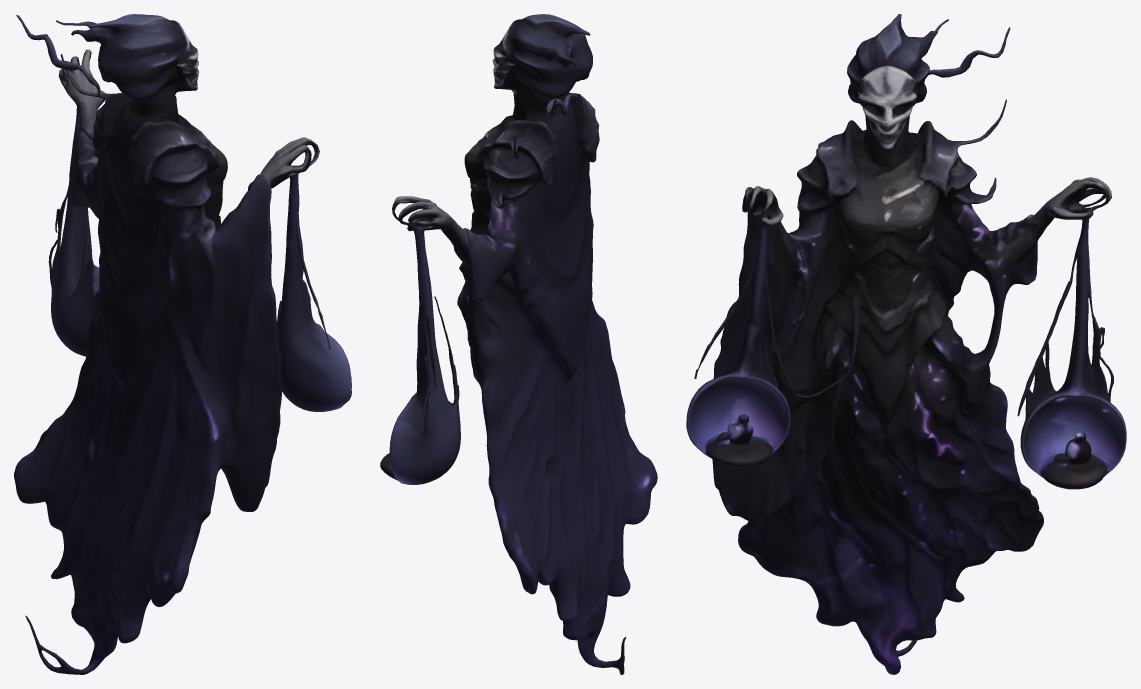
Rendered from dream-thief.glb.
3 renders of one model, left to right at view 1: azimuth 30°, elevation 25°; view 2: azimuth 150°, elevation 25°; view 3: azimuth 270°, elevation 25°, orthographic. The views are drawn at different scales.
Visible parts, largest first — view 1: tripo_node_b17d3d4b-95b3-4d00-a5e4-143c5a767c49; view 2: tripo_node_b17d3d4b-95b3-4d00-a5e4-143c5a767c49; view 3: tripo_node_b17d3d4b-95b3-4d00-a5e4-143c5a767c49.
Boxes of the visible parts, box(x1,y1,x2,y2) form: tripo_node_b17d3d4b-95b3-4d00-a5e4-143c5a767c49: box(14, 14, 351, 674); tripo_node_b17d3d4b-95b3-4d00-a5e4-143c5a767c49: box(380, 14, 657, 674); tripo_node_b17d3d4b-95b3-4d00-a5e4-143c5a767c49: box(686, 14, 1126, 674).
Size of the model in its own units: 0.3765 by 1 by 0.5988.
Materials: 1 (1 with a texture image).
